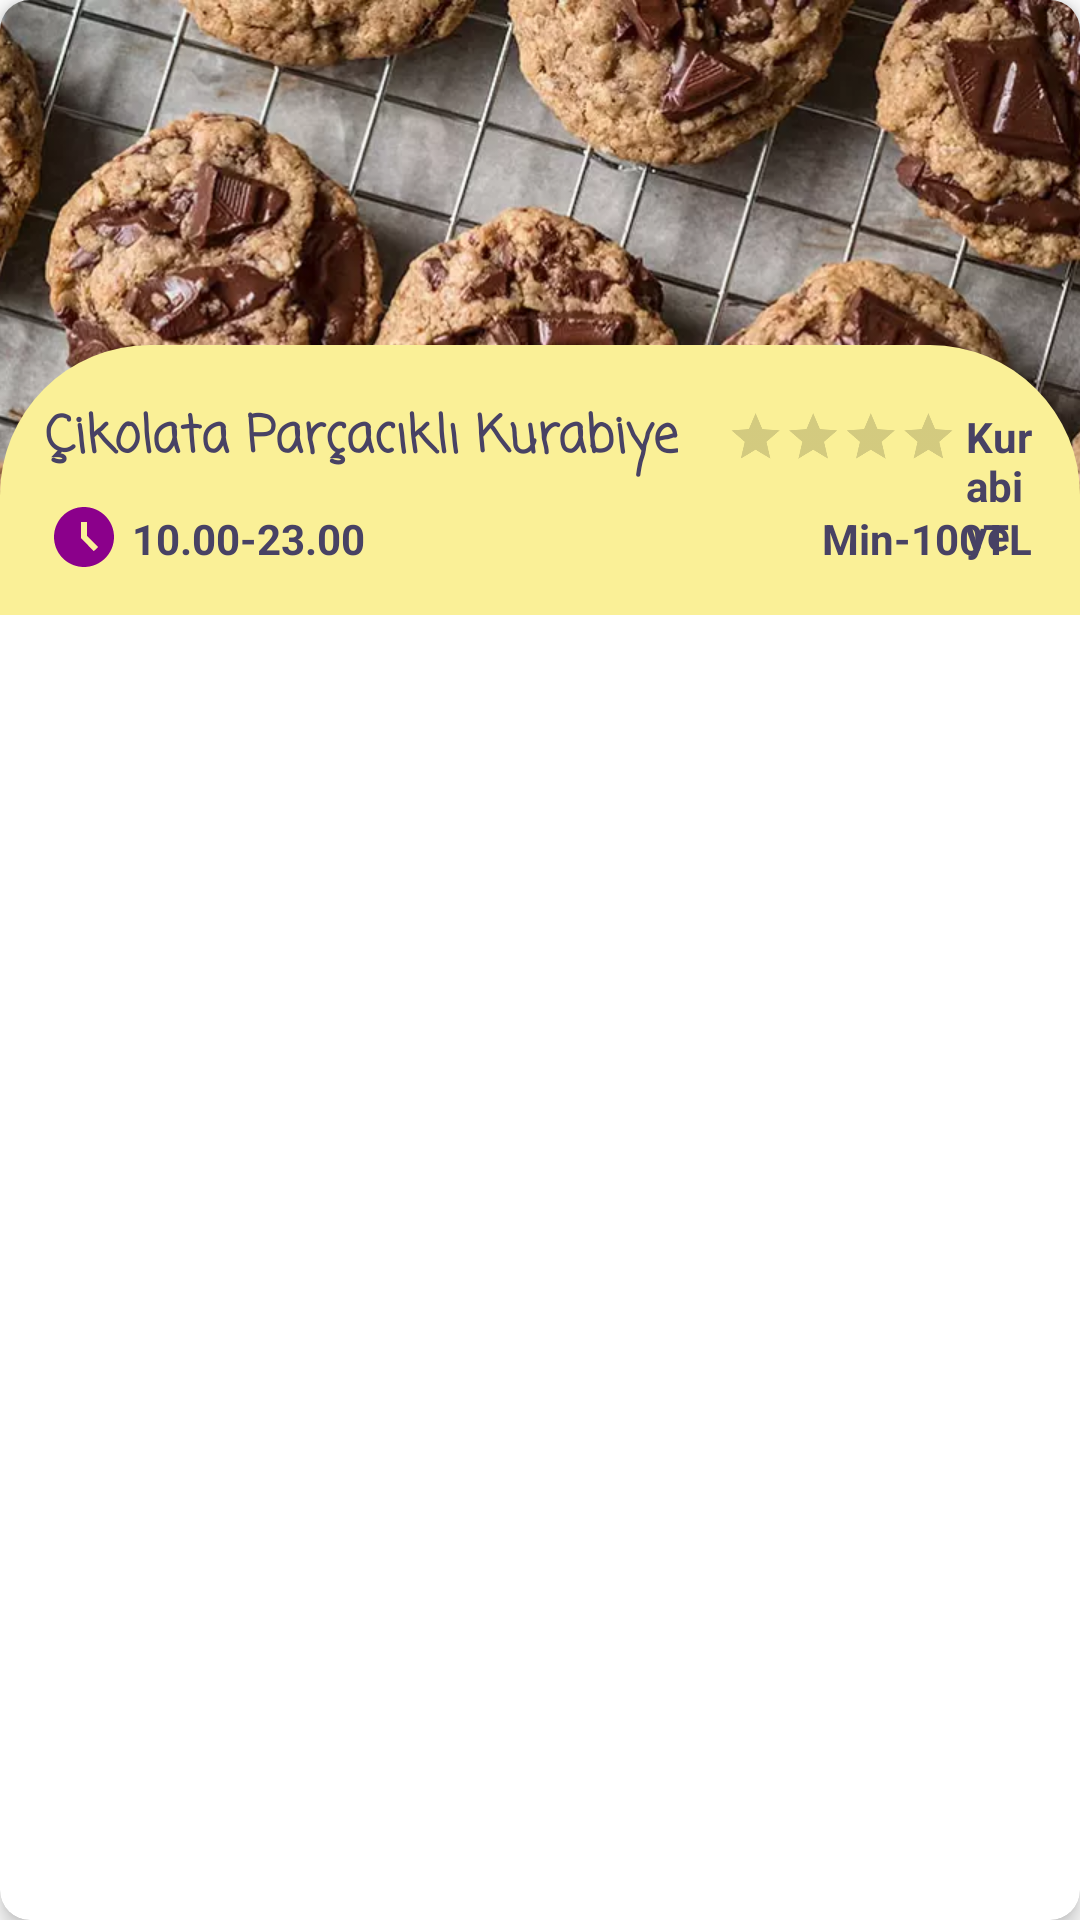

Icons on this 1080 × 1920 Android screen, each with the point to tap as point (x, y):
access time: point (84, 537)
